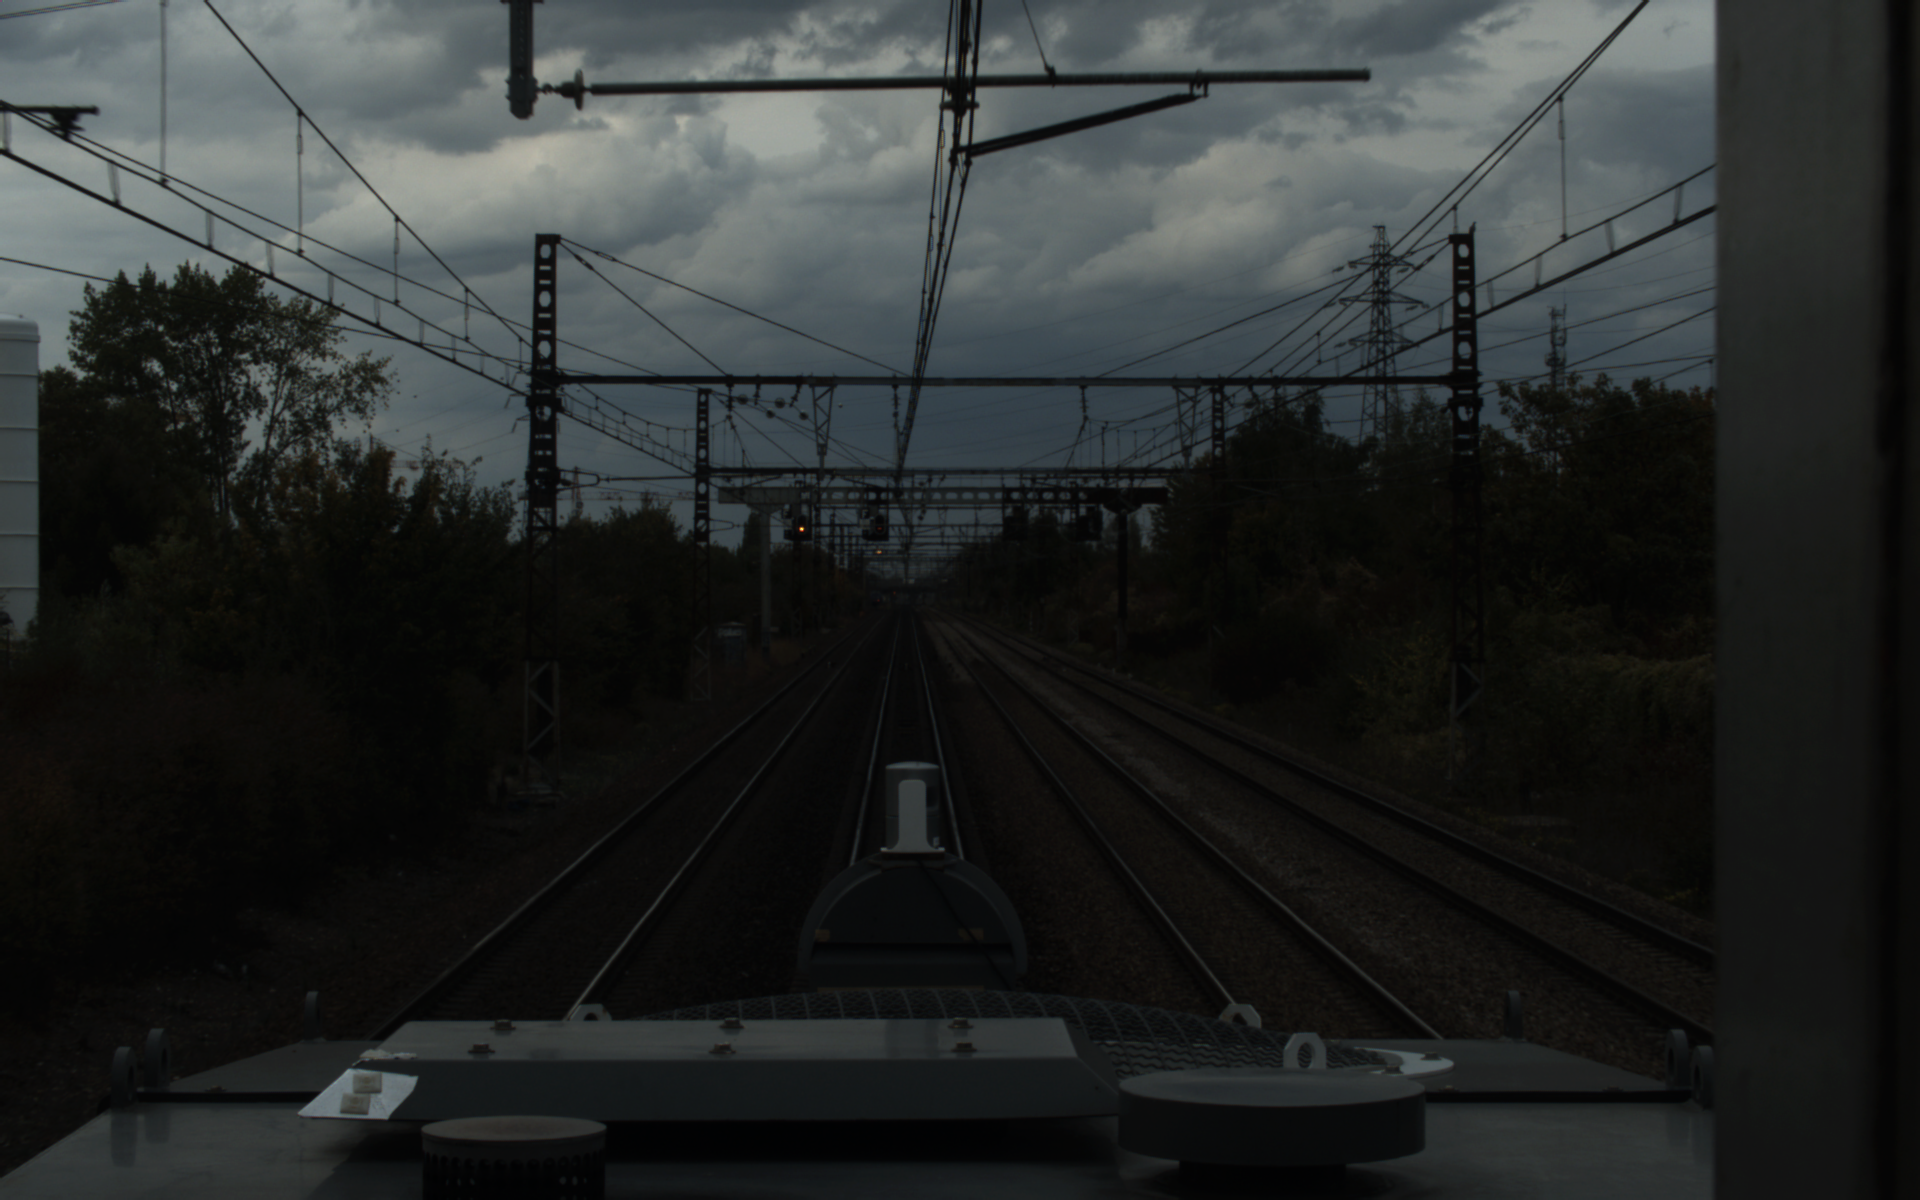Blinking: (874, 513, 886, 534)
Fixed: (793, 512, 809, 535)
